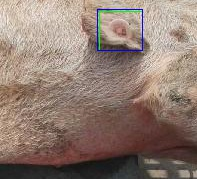text: (99, 11, 142, 50)
